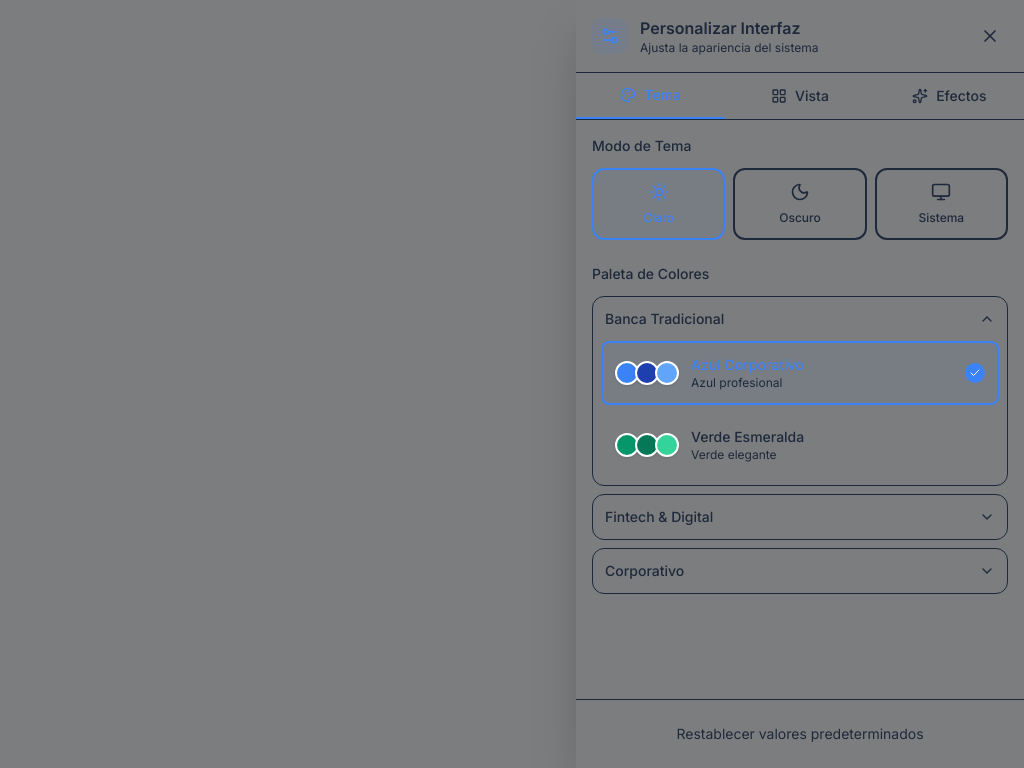
UISettingsPanel › Layout Tab › debe mostrar opciones de visualización
This screenshot has width=1024, height=768.
Click the button "Vista" at coordinates (800, 96), box [725,73,875,119]
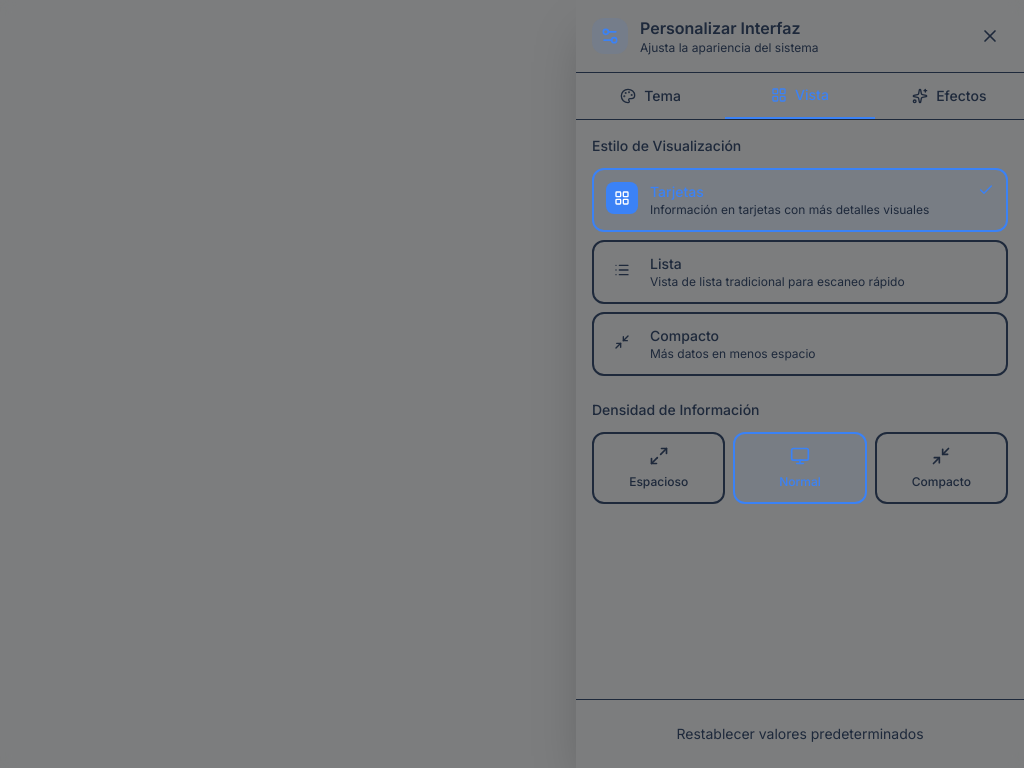
Expected: the text "Estilo de Visualización" is shown, [592,137,741,154]
Expected: the text "Tarjetas" is shown, [650,183,704,200]
Expected: the text "Lista" is shown, [650,255,682,272]
